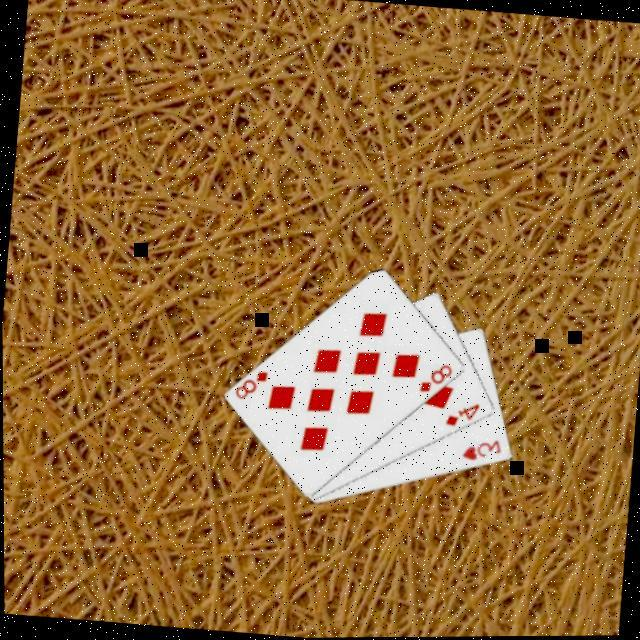3H: (458, 432, 504, 464)
4D: (442, 396, 482, 429)
8D: (230, 363, 272, 402), (416, 358, 456, 395)
